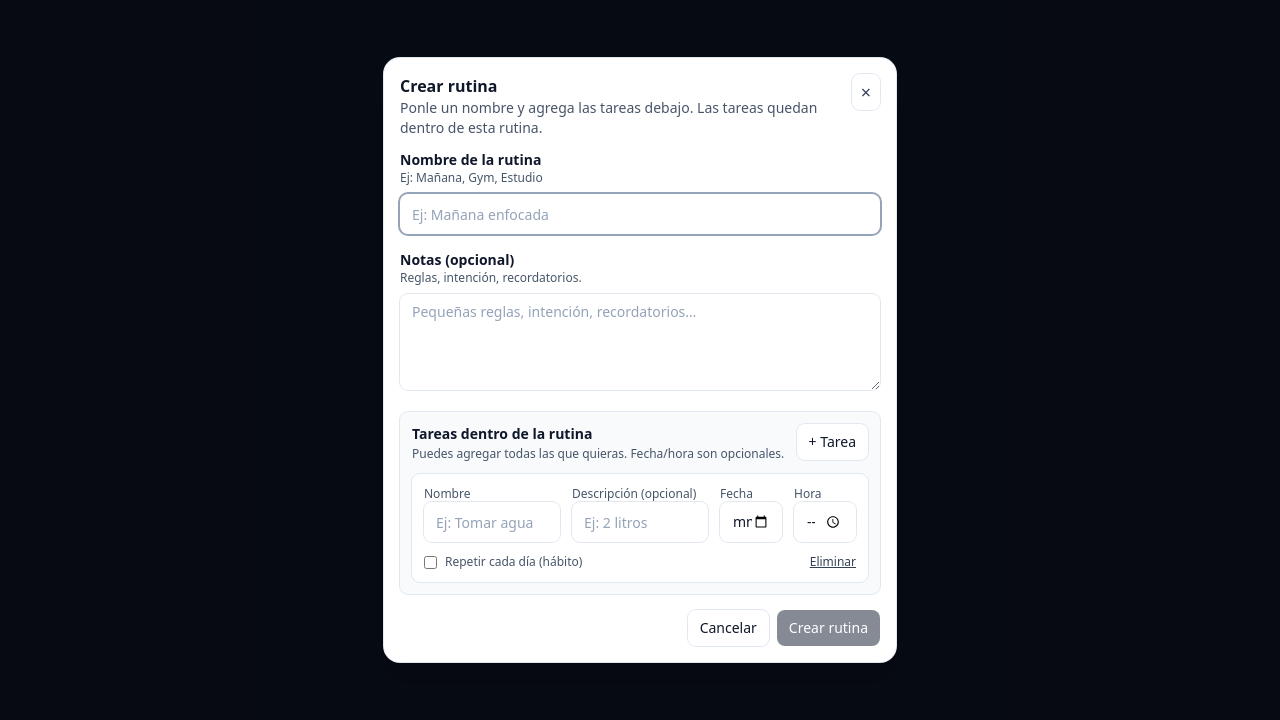
Test case: RoutineWizardModal › requires a routine title before enabling submit
The width and height of the screenshot is (1280, 720).
Expected: the button "Crear rutina" is disabled, [777,610,880,646]
In the field with placeholder "Ej: Mañana enfocada": (640, 214) [400,194,880,234], type "Mi rutina"
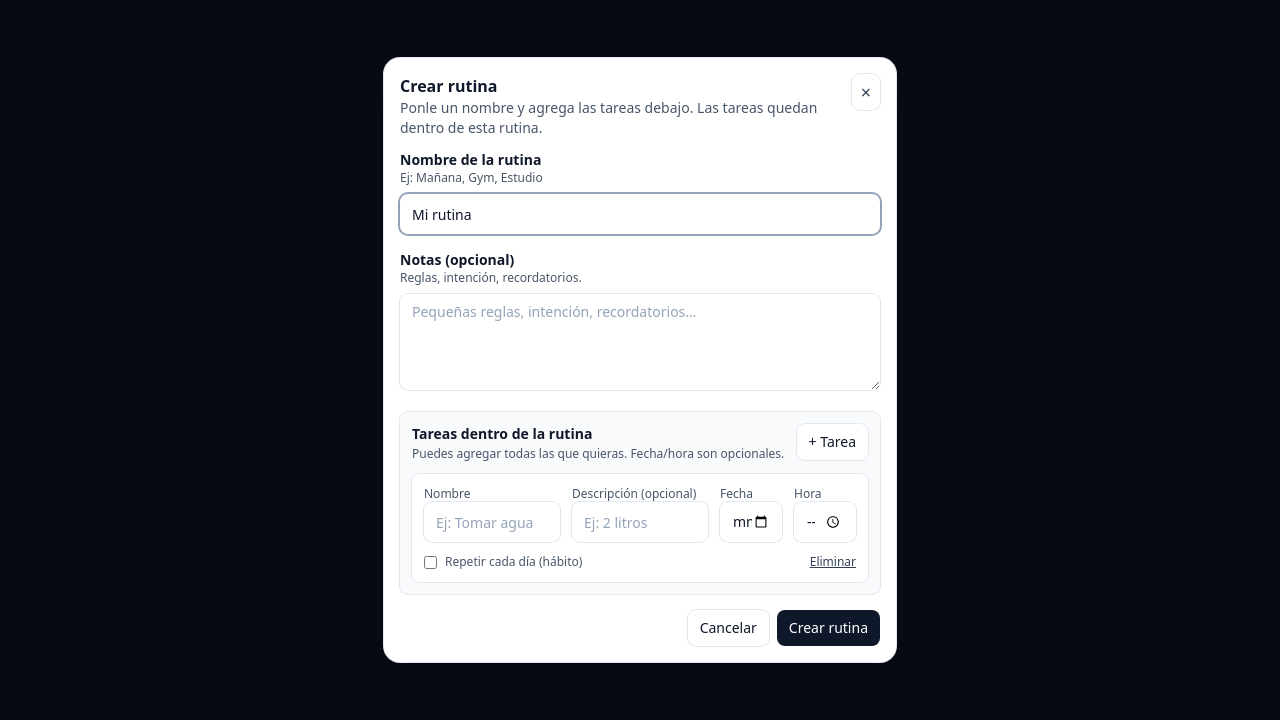
Expected: the button "Crear rutina" is enabled, [777,610,880,646]
